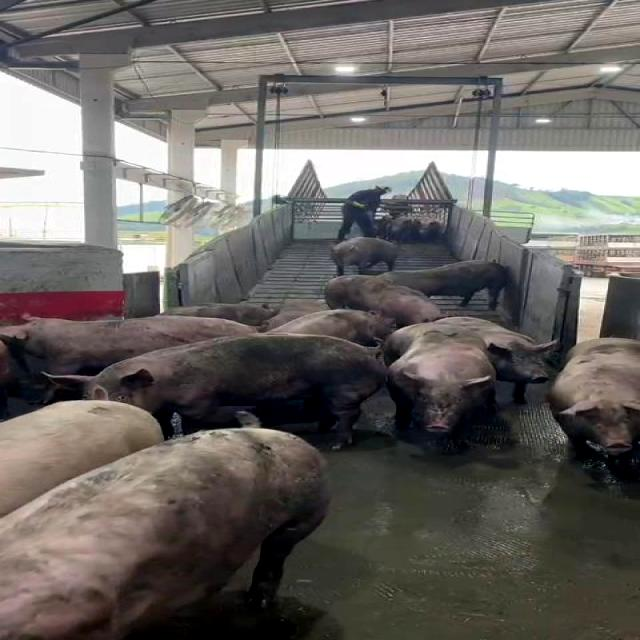pig: (2, 428, 330, 639), (0, 400, 165, 516), (0, 316, 257, 375), (383, 322, 497, 433), (550, 338, 640, 458), (435, 316, 557, 402), (325, 275, 447, 327), (380, 261, 509, 308), (270, 309, 387, 346), (163, 302, 275, 326), (332, 238, 399, 276)
